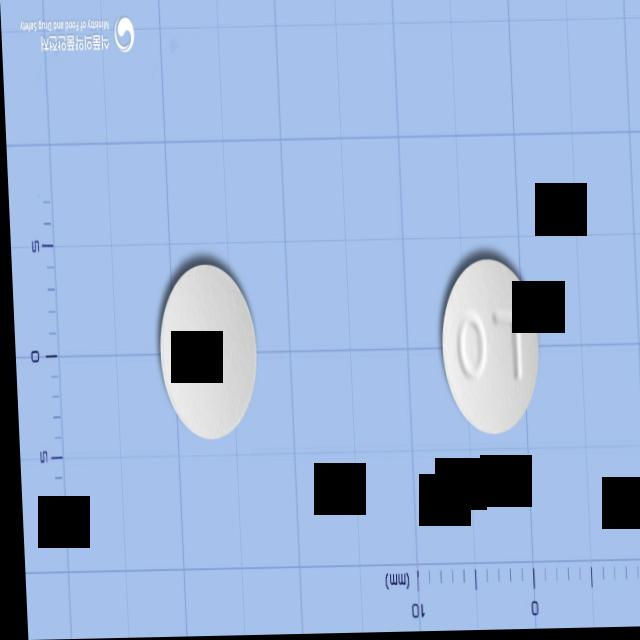Lebofacin: (435, 259, 539, 439), (154, 265, 256, 442)
